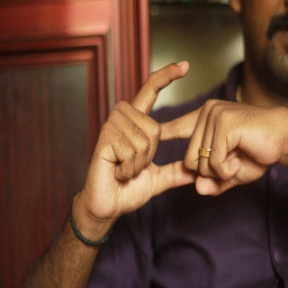E: (118, 58, 227, 194)
